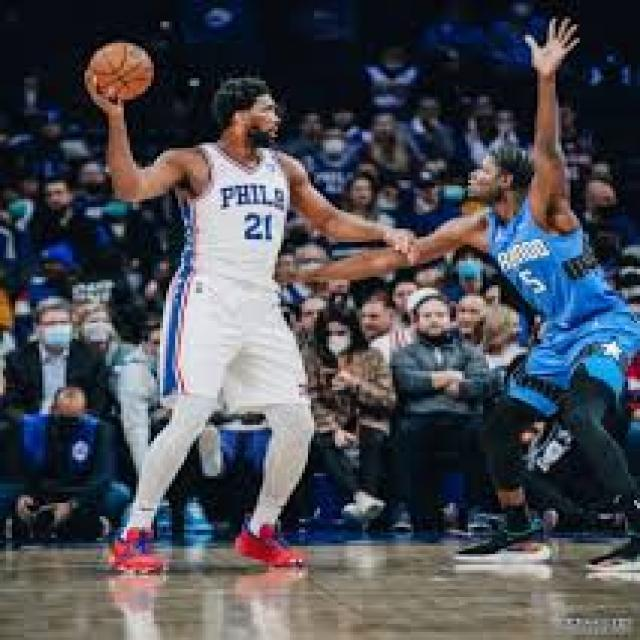rim: (88, 43, 154, 100)
